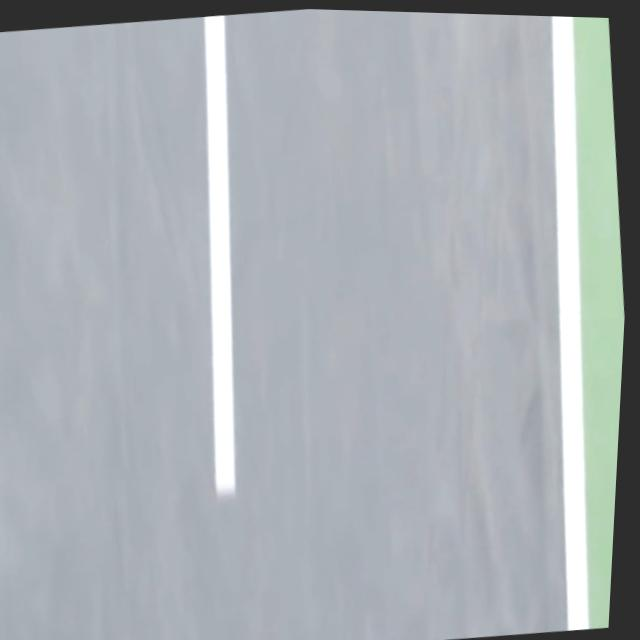center: (203, 15, 235, 496)
right: (551, 16, 589, 630)
